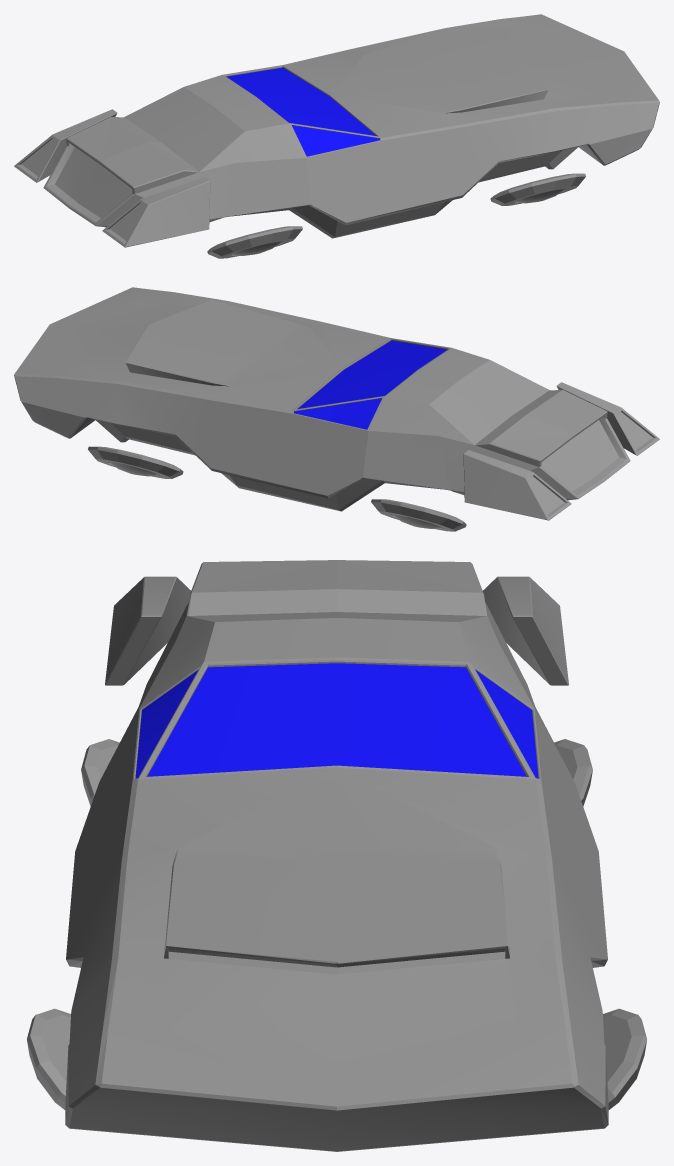
File: AILeen Car.FBX
3 renders of one model, top to bottom at view 1: azimuth 30°, elevation 25°; view 2: azimuth 150°, elevation 25°; view 3: azimuth 270°, elevation 25°, orthographic. The views are drawn at different scales.
Parts seen in each view (by area): view 1: AileenCar, AIleenRepulsor_001, AIleenRepulsor_002; view 2: AileenCar, AIleenRepulsor_003, AIleenRepulsor_004; view 3: AileenCar, AIleenRepulsor_002, AIleenRepulsor_003, AIleenRepulsor_001, AIleenRepulsor_004.
Part boxes in pixels (x1,y1,x2,y2): AileenCar: (14,14,659,247); AIleenRepulsor_001: (207,226,302,258); AIleenRepulsor_002: (490,173,585,205); AileenCar: (14,287,659,520); AIleenRepulsor_003: (88,446,183,478); AIleenRepulsor_004: (371,499,466,531); AileenCar: (65,560,608,1151); AIleenRepulsor_002: (27,1008,70,1109); AIleenRepulsor_003: (603,1008,646,1109); AIleenRepulsor_001: (81,739,119,806); AIleenRepulsor_004: (554,739,592,806).
Size of the model in its own units: 146 by 29.87 by 70.61.
